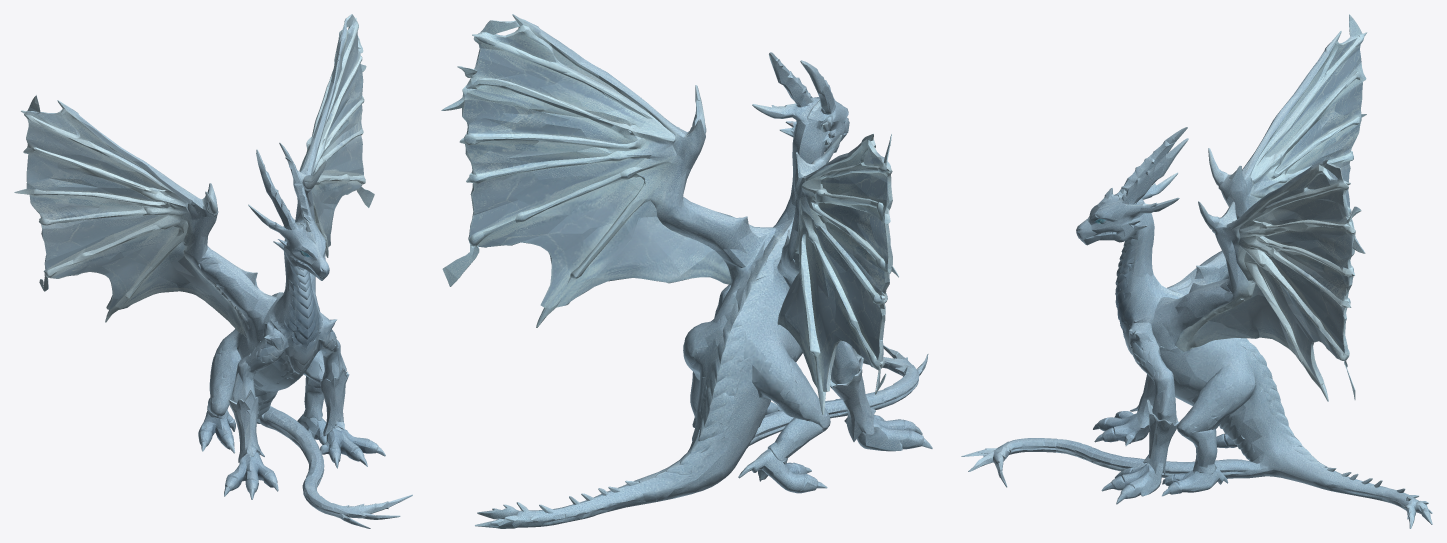
File: shirokan.glb
3 renders of one model, left to right at view 1: azimuth 30°, elevation 25°; view 2: azimuth 150°, elevation 25°; view 3: azimuth 270°, elevation 25°, orthographic. The views are drawn at different scales.
Size of the model in its own units: 1.76 by 1.67 by 1.89.
Materials: 1 (1 with a texture image).
